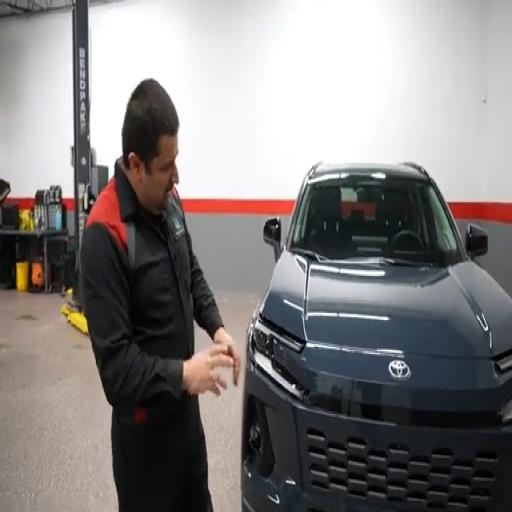bumper: (241, 363, 511, 511)
emblem: (388, 360, 411, 381)
fog_light: (249, 424, 261, 453), (500, 400, 511, 423)
grille: (307, 429, 497, 511)
headlight: (248, 318, 303, 399)
hood: (260, 251, 511, 358)
side_mirror: (264, 218, 281, 261), (465, 224, 487, 257)
windshield: (289, 175, 461, 265)
